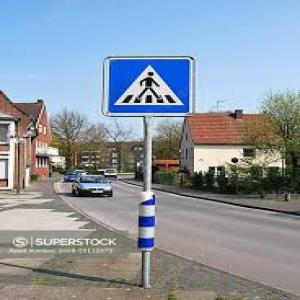PEDESTRIAN CROSSING: (98, 50, 203, 122)
